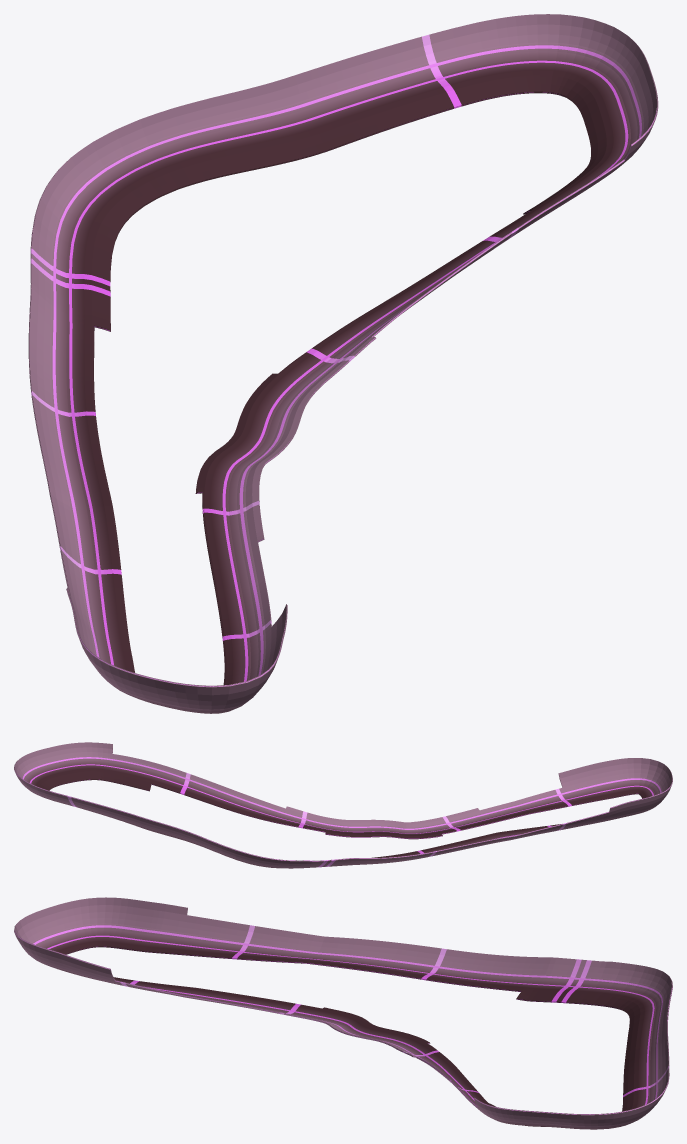
The model's file is Mondza.fbx.
3 renders of one model, top to bottom at view 1: azimuth 30°, elevation 25°; view 2: azimuth 150°, elevation 25°; view 3: azimuth 270°, elevation 25°, orthographic. The views are drawn at different scales.
Parts seen in each view (by area): view 1: Mondza; view 2: Mondza; view 3: Mondza.
Boxes of the visible parts, box(x1,y1,x2,y2) form: Mondza: box(28, 14, 658, 713); Mondza: box(14, 742, 672, 868); Mondza: box(14, 897, 672, 1129).
Bounding box in the file's own units: 60.82 × 57.14 × 11.07.
